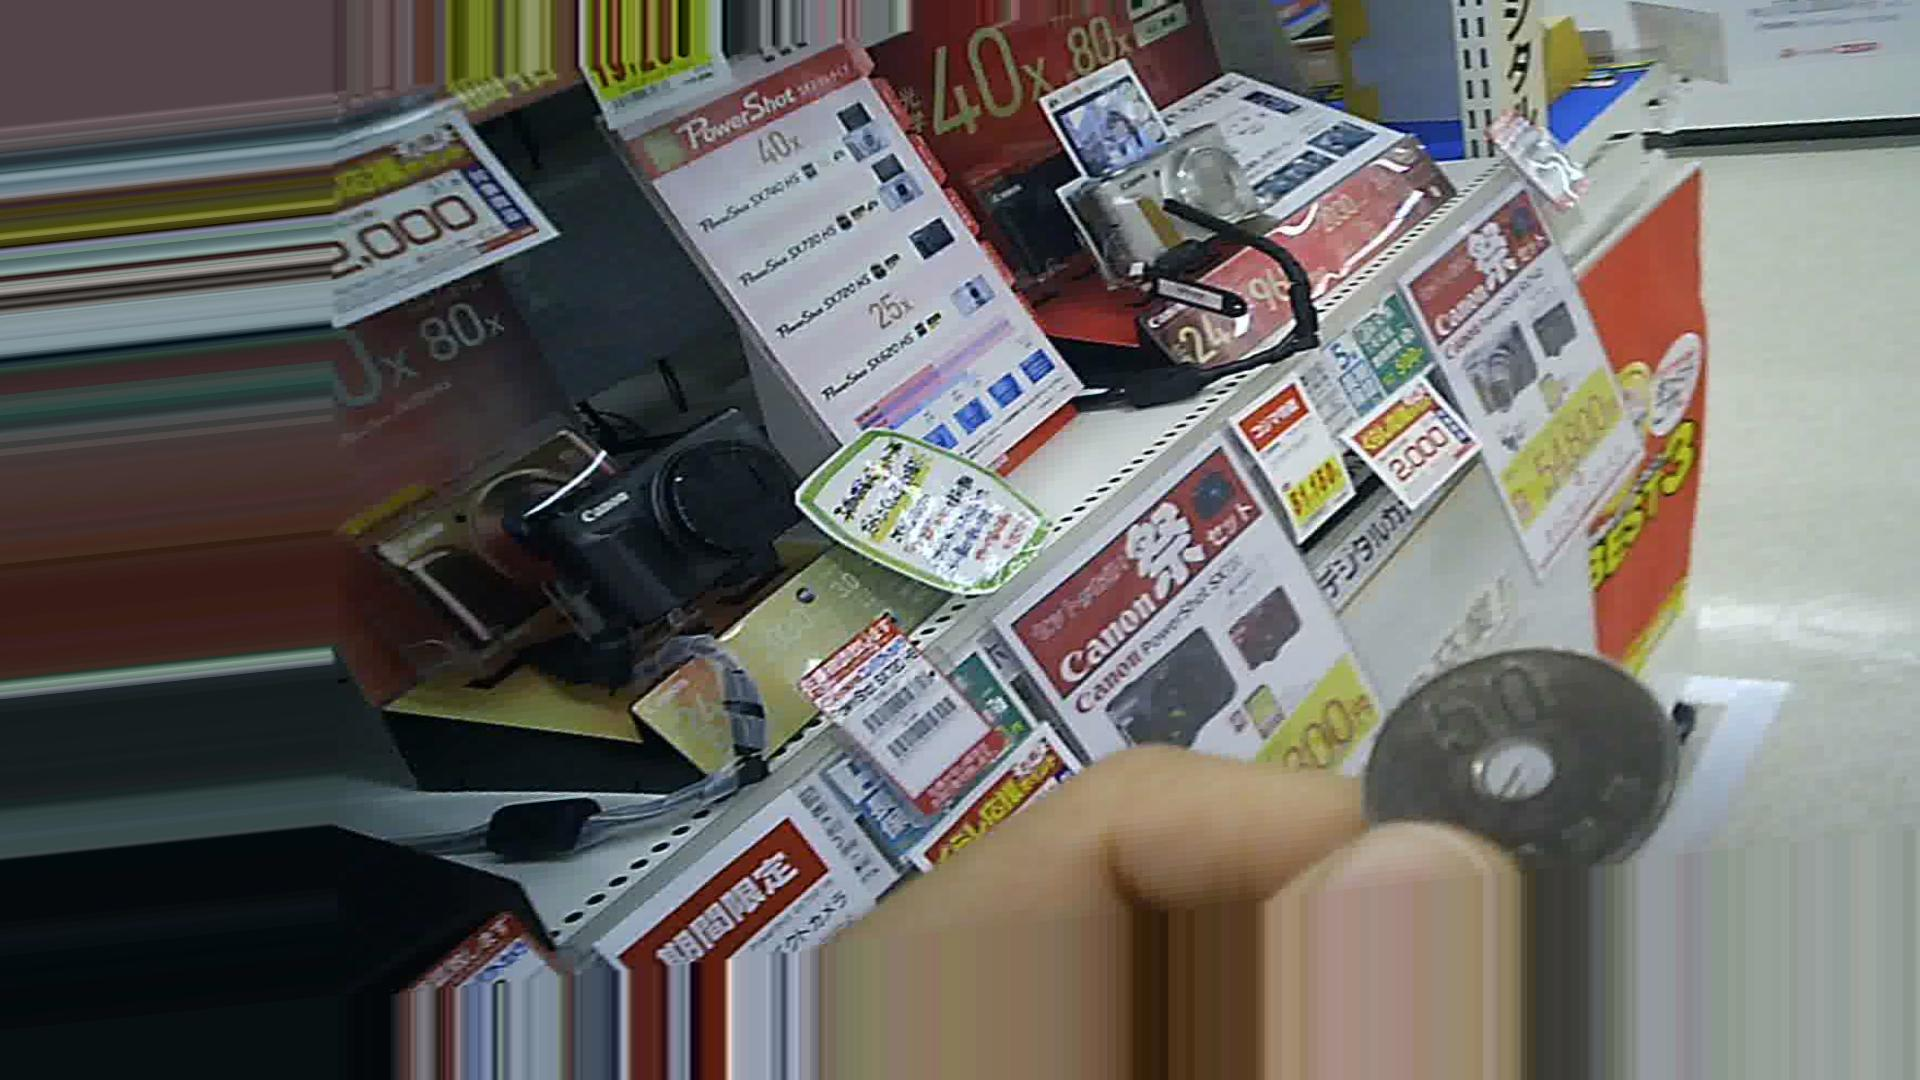50 Yen: (1378, 647, 1679, 858)
